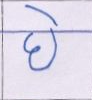e_matra: (25, 4, 63, 28)
